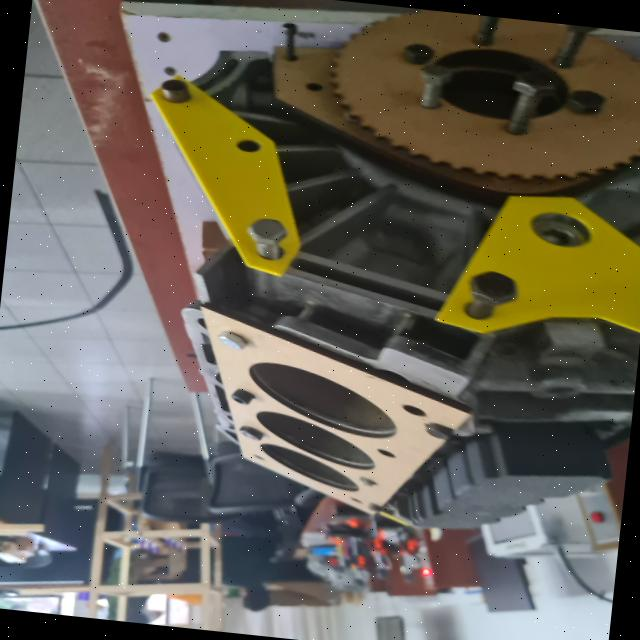tor_v1: (200, 306, 471, 515)
